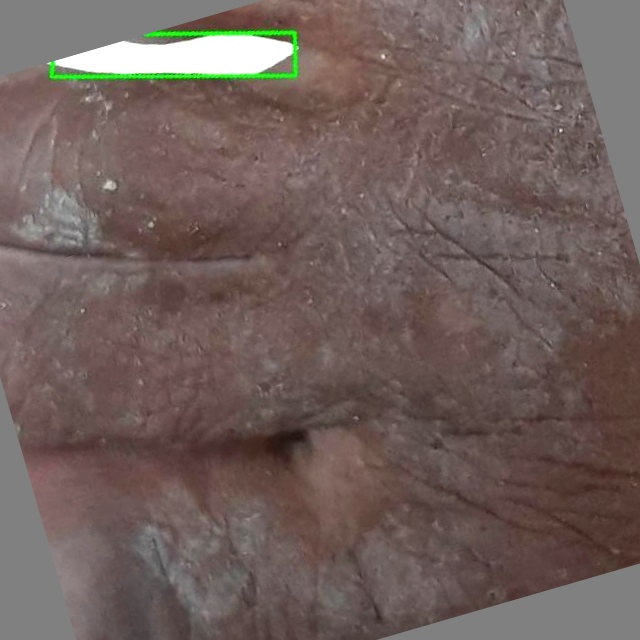Eczema: (52, 32, 296, 77)
